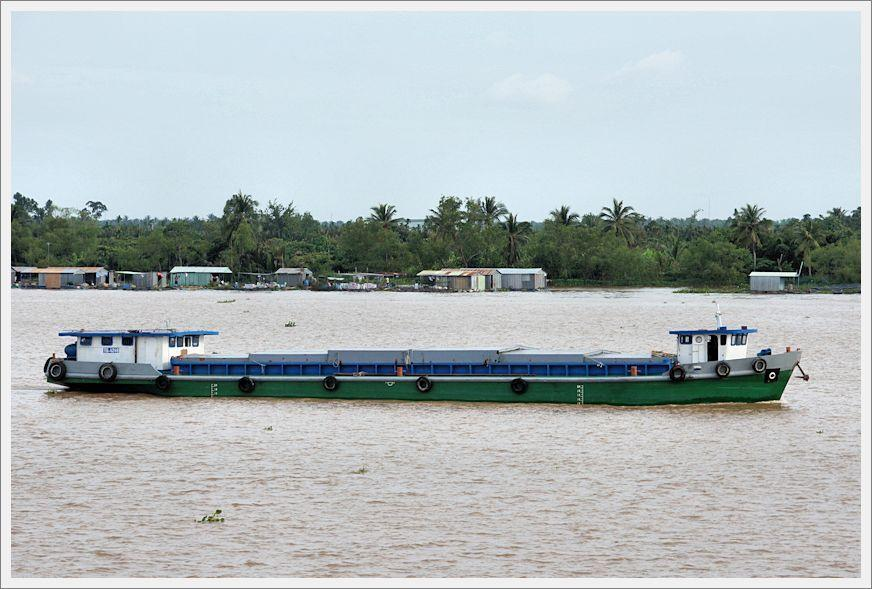Ship: (40, 329, 806, 413)
